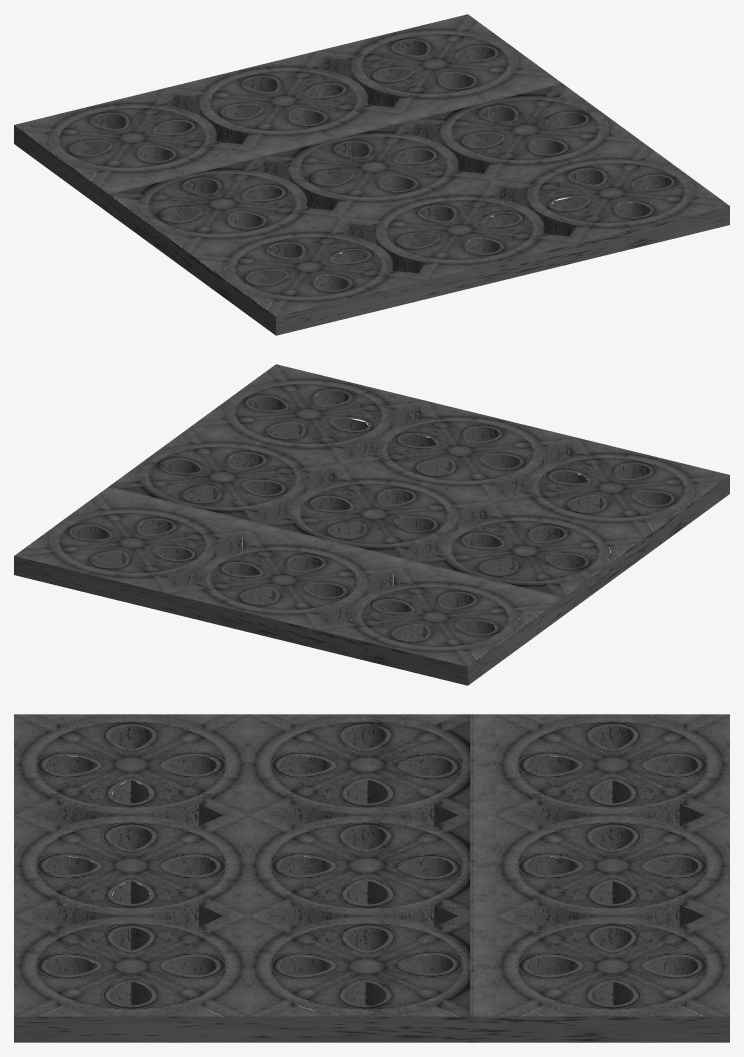
The model's file is factorytiles.fbx.
3 views of the same model, one above another, from view 1: azimuth 30°, elevation 25°; view 2: azimuth 150°, elevation 25°; view 3: azimuth 270°, elevation 25° (orthographic). The views are drawn at different scales.
Parts seen in each view (by area): view 1: factory-tiles; view 2: factory-tiles; view 3: factory-tiles.
Part boxes in pixels (x1=…): factory-tiles: x1=14, y1=14, x2=729, y2=335; factory-tiles: x1=14, y1=364, x2=729, y2=685; factory-tiles: x1=14, y1=714, x2=729, y2=1042.
Size of the model in its own units: 50 by 2 by 50.
